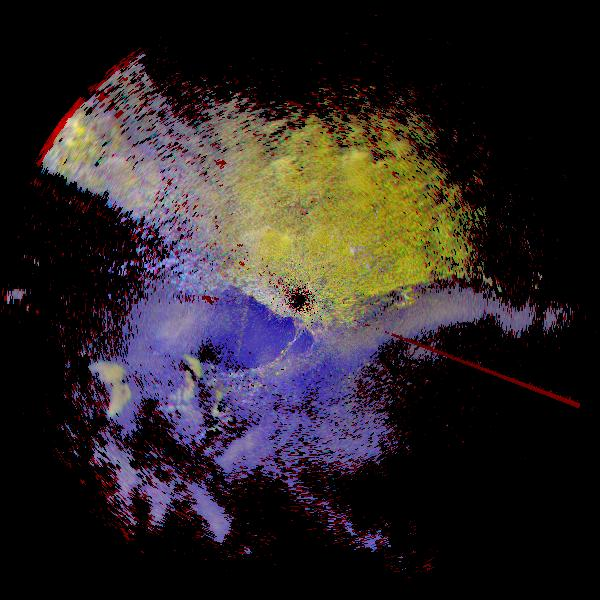roost: (50, 351, 134, 435), (140, 350, 203, 413), (213, 409, 222, 418)
